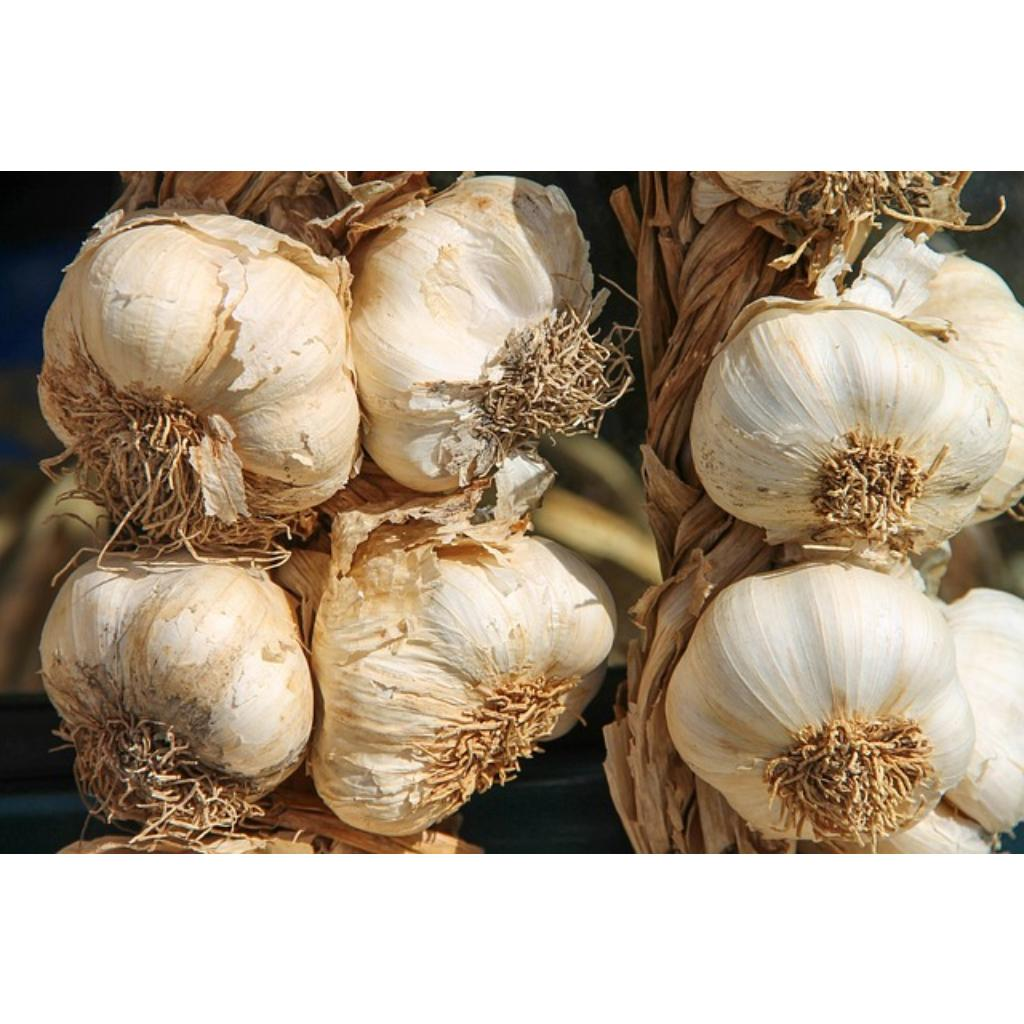garlic: (40, 206, 360, 563), (312, 534, 614, 834), (666, 562, 974, 841), (690, 306, 1010, 552), (350, 176, 594, 491), (40, 560, 314, 789), (912, 254, 1024, 521), (944, 588, 1024, 832)
